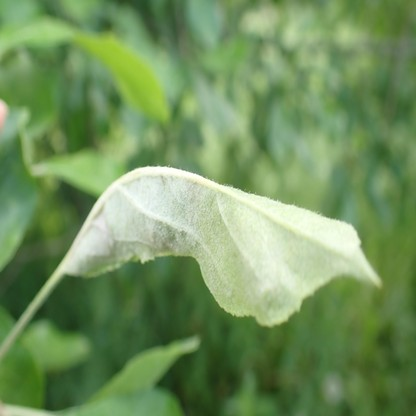powder: (63, 164, 207, 267), (237, 212, 300, 313)
